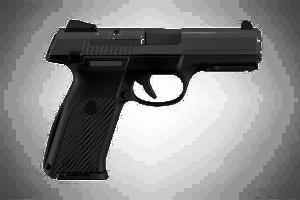handgun: (29, 15, 282, 181)
